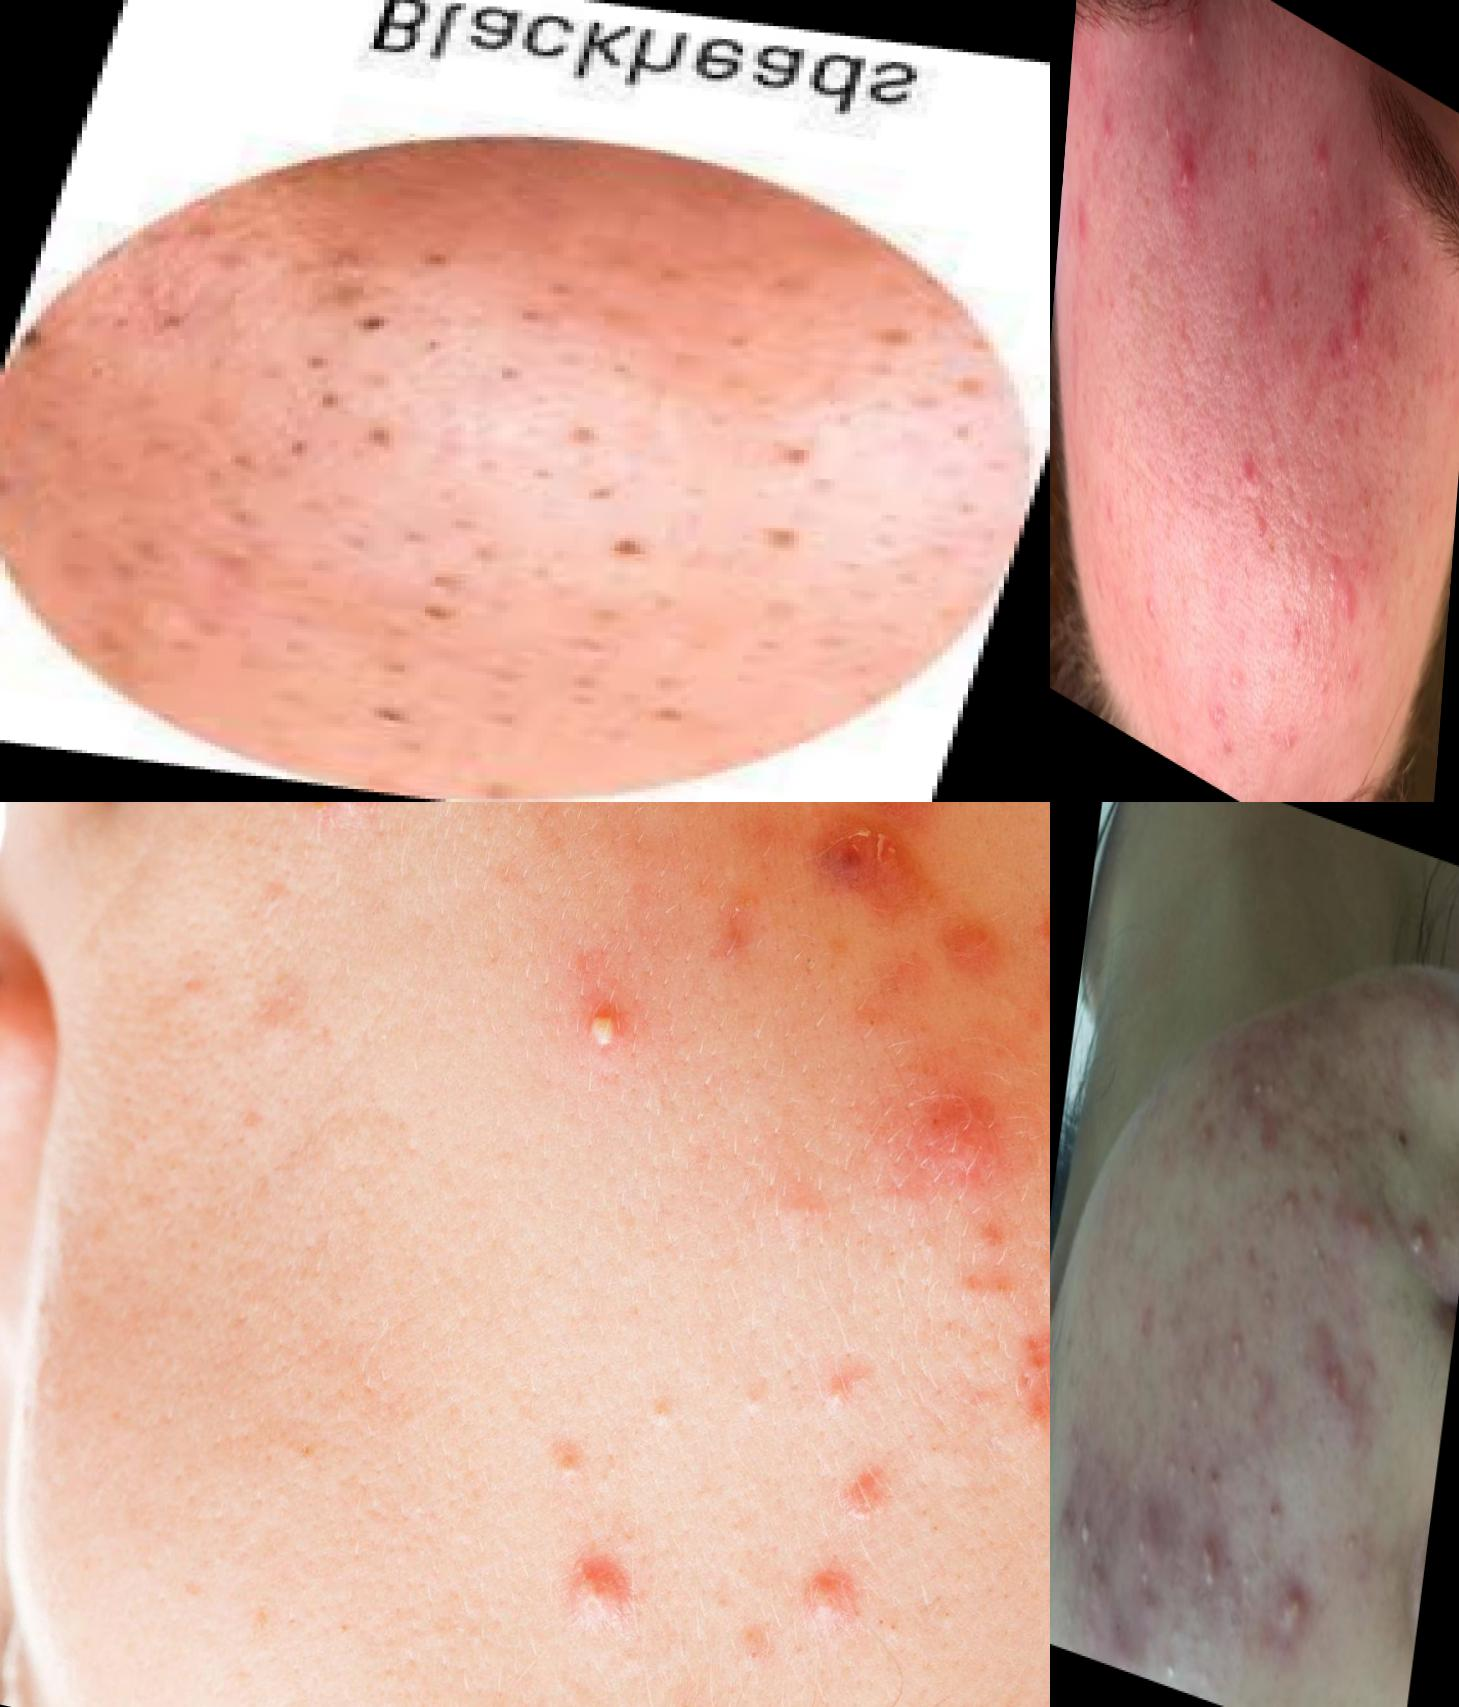blackhead: (252, 358, 452, 497), (331, 555, 572, 665), (494, 248, 646, 342), (728, 505, 871, 576), (562, 507, 674, 595), (326, 686, 444, 767), (740, 407, 863, 482), (326, 269, 424, 358), (544, 388, 651, 463)
cystic: (1116, 1499, 1177, 1626)
papular: (867, 1003, 1036, 1184), (729, 804, 961, 915), (543, 1480, 682, 1619), (284, 804, 426, 835), (1171, 116, 1210, 224), (1346, 258, 1384, 363), (1265, 1173, 1317, 1244), (1342, 1194, 1387, 1263), (1253, 237, 1285, 333), (1190, 1096, 1229, 1163), (1313, 114, 1340, 206), (1368, 206, 1403, 272), (1337, 573, 1371, 638), (1285, 266, 1311, 334), (1324, 305, 1352, 365), (1203, 1457, 1233, 1507), (1259, 405, 1282, 471)
purulent: (479, 916, 737, 1124), (1238, 1058, 1285, 1137), (1190, 1526, 1230, 1616), (1271, 688, 1308, 775), (1216, 1307, 1259, 1378), (1180, 1362, 1214, 1445), (1405, 1205, 1440, 1283), (1129, 573, 1170, 638), (1272, 1569, 1308, 1642), (1075, 1497, 1110, 1559), (1183, 4, 1206, 65), (1159, 90, 1175, 161)
sebo-crystan-conglo: (1311, 1336, 1363, 1422)
whitehead: (1227, 1548, 1264, 1619), (1303, 1225, 1337, 1299), (1337, 1501, 1371, 1577), (1154, 1638, 1188, 1693), (1256, 1286, 1290, 1328), (1431, 1212, 1459, 1260), (1455, 1029, 1459, 1082)
